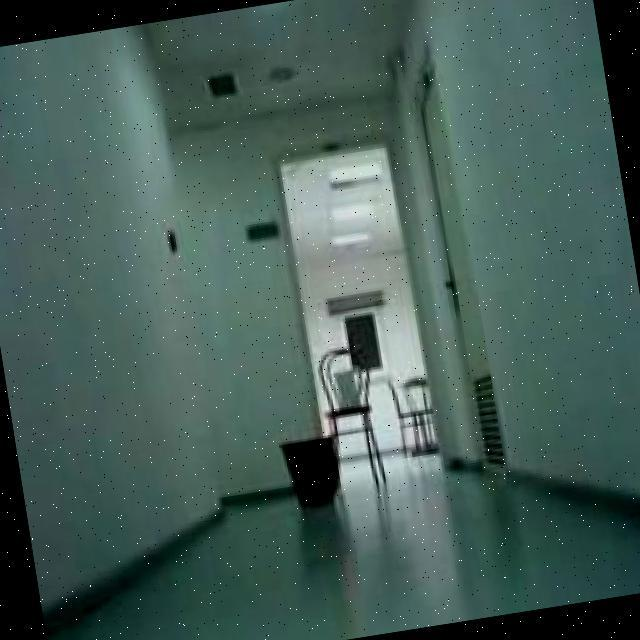Fire: (302, 411, 339, 436)
